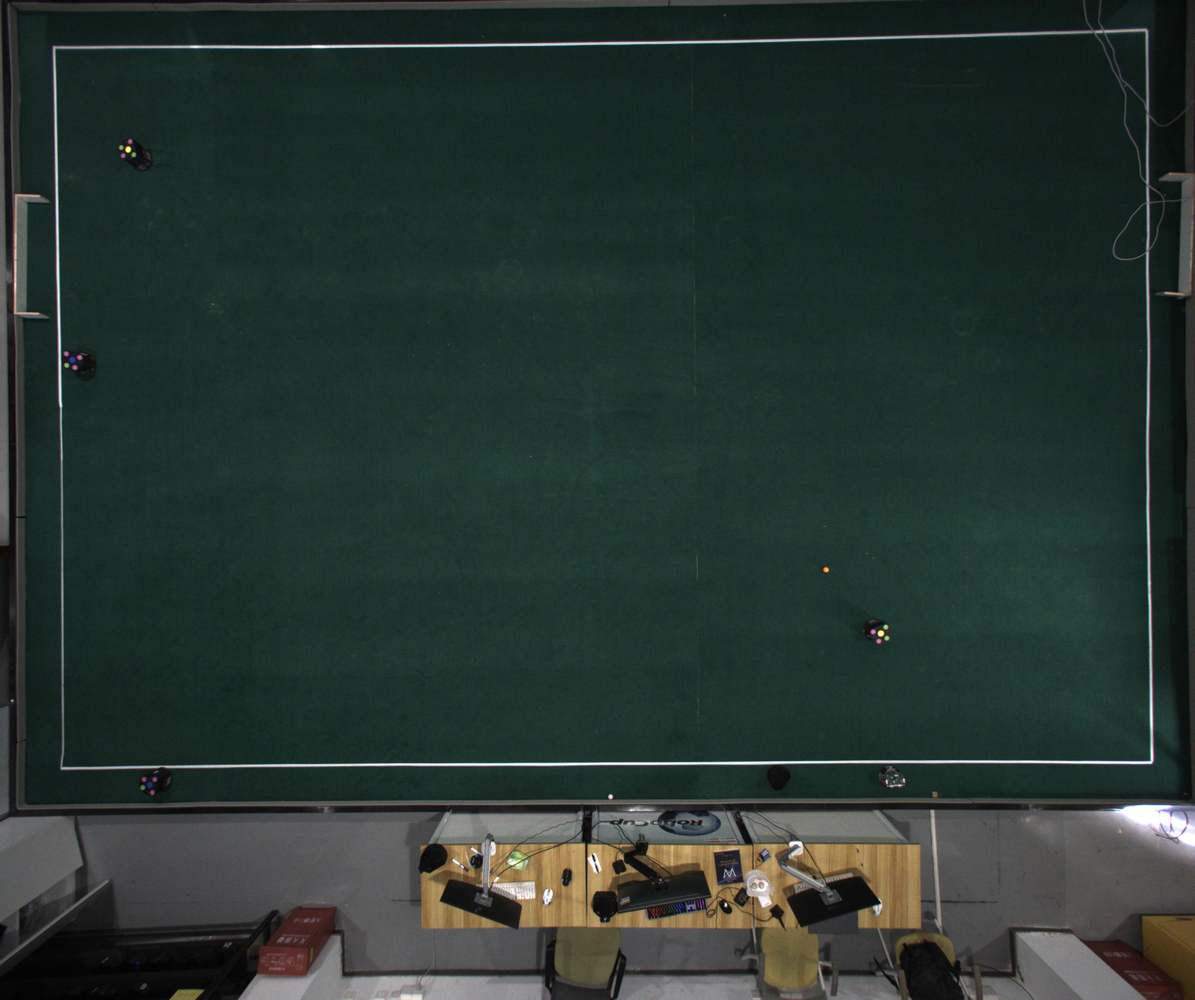ball: (823, 566, 830, 573)
blue_bot: (63, 350, 84, 372), (140, 774, 159, 796)
yellow_bot: (870, 624, 892, 644), (119, 139, 138, 161)
